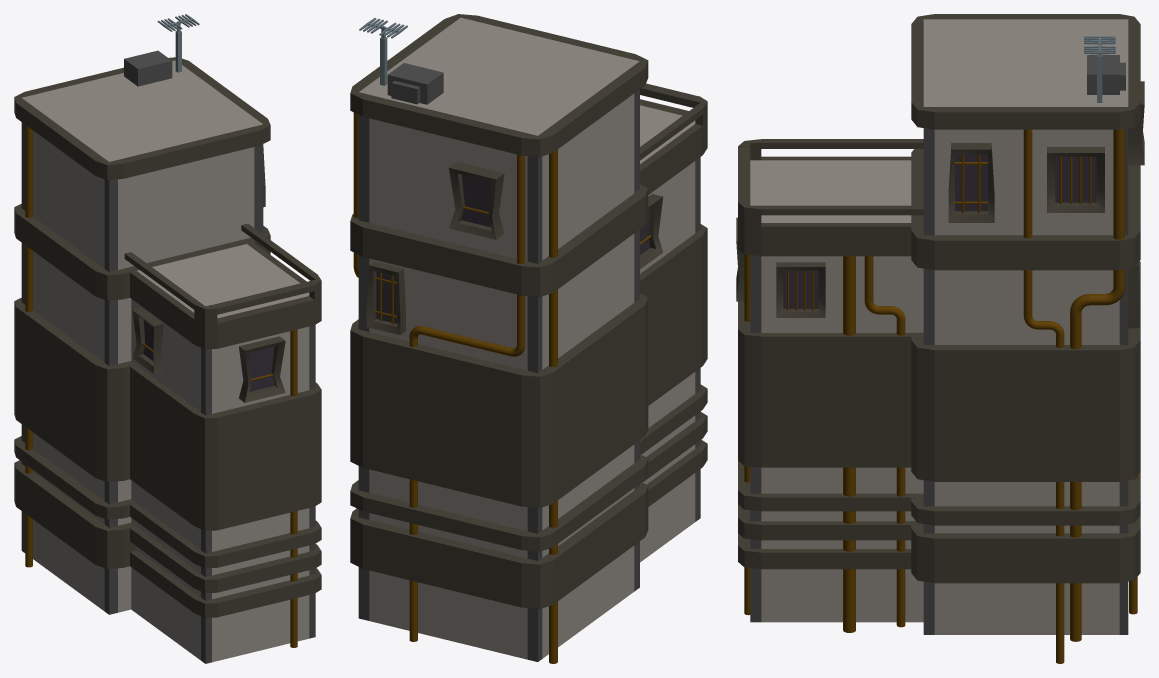
Rendered from 48_Building5 (1).fbx.
The picture shows the model from 3 angles, left to right: view 1: azimuth 30°, elevation 25°; view 2: azimuth 150°, elevation 25°; view 3: azimuth 270°, elevation 25°; orthographic projection. The views are drawn at different scales.
Visible parts, largest first — view 1: polySurface6, polySurface7, pCube38, pCylinder112, pCube42, pCube43, pCylinder102, pCube44; view 2: polySurface6, polySurface7, pCube40, pCylinder109, pCube39, pCylinder112, pCube43, pCube42, pCube44, pCylinder111; view 3: polySurface6, polySurface7, pCylinder111, pCube36, pCube35, pCylinder110, pCube37, pCylinder103, pCylinder101, pCube43, pCylinder102, pCube40 (+2 smaller).
Part boxes in pixels (<box>): polySurface6: <box>14,57,270,614</box>; polySurface7: <box>124,223,321,663</box>; pCube38: <box>239,336,285,402</box>; pCylinder112: <box>25,125,32,567</box>; pCube42: <box>132,308,163,374</box>; pCube43: <box>124,50,172,86</box>; pCylinder102: <box>290,329,297,647</box>; pCube44: <box>157,14,199,72</box>; polySurface6: <box>350,14,648,661</box>; polySurface7: <box>640,83,707,562</box>; pCube40: <box>449,162,504,239</box>; pCylinder109: <box>409,154,525,641</box>; pCube39: <box>366,261,405,335</box>; pCylinder112: <box>549,149,557,663</box>; pCube43: <box>387,63,443,104</box>; pCube42: <box>640,194,663,269</box>; pCube44: <box>359,18,407,85</box>; pCylinder111: <box>353,112,358,277</box>; polySurface6: <box>911,14,1140,634</box>; polySurface7: <box>738,139,923,622</box>; pCylinder111: <box>1070,129,1124,641</box>; pCube36: <box>1047,147,1104,212</box>; pCube35: <box>948,143,994,222</box>; pCylinder110: <box>1023,129,1064,663</box>; pCube37: <box>776,262,825,317</box>; pCylinder103: <box>843,256,855,632</box>; pCylinder101: <box>864,256,905,627</box>; pCube43: <box>1087,55,1125,94</box>; pCylinder102: <box>744,254,750,615</box>; pCube40: <box>1128,81,1144,165</box>.
Size of the model in its own units: 3.54 by 10.06 by 6.09.
